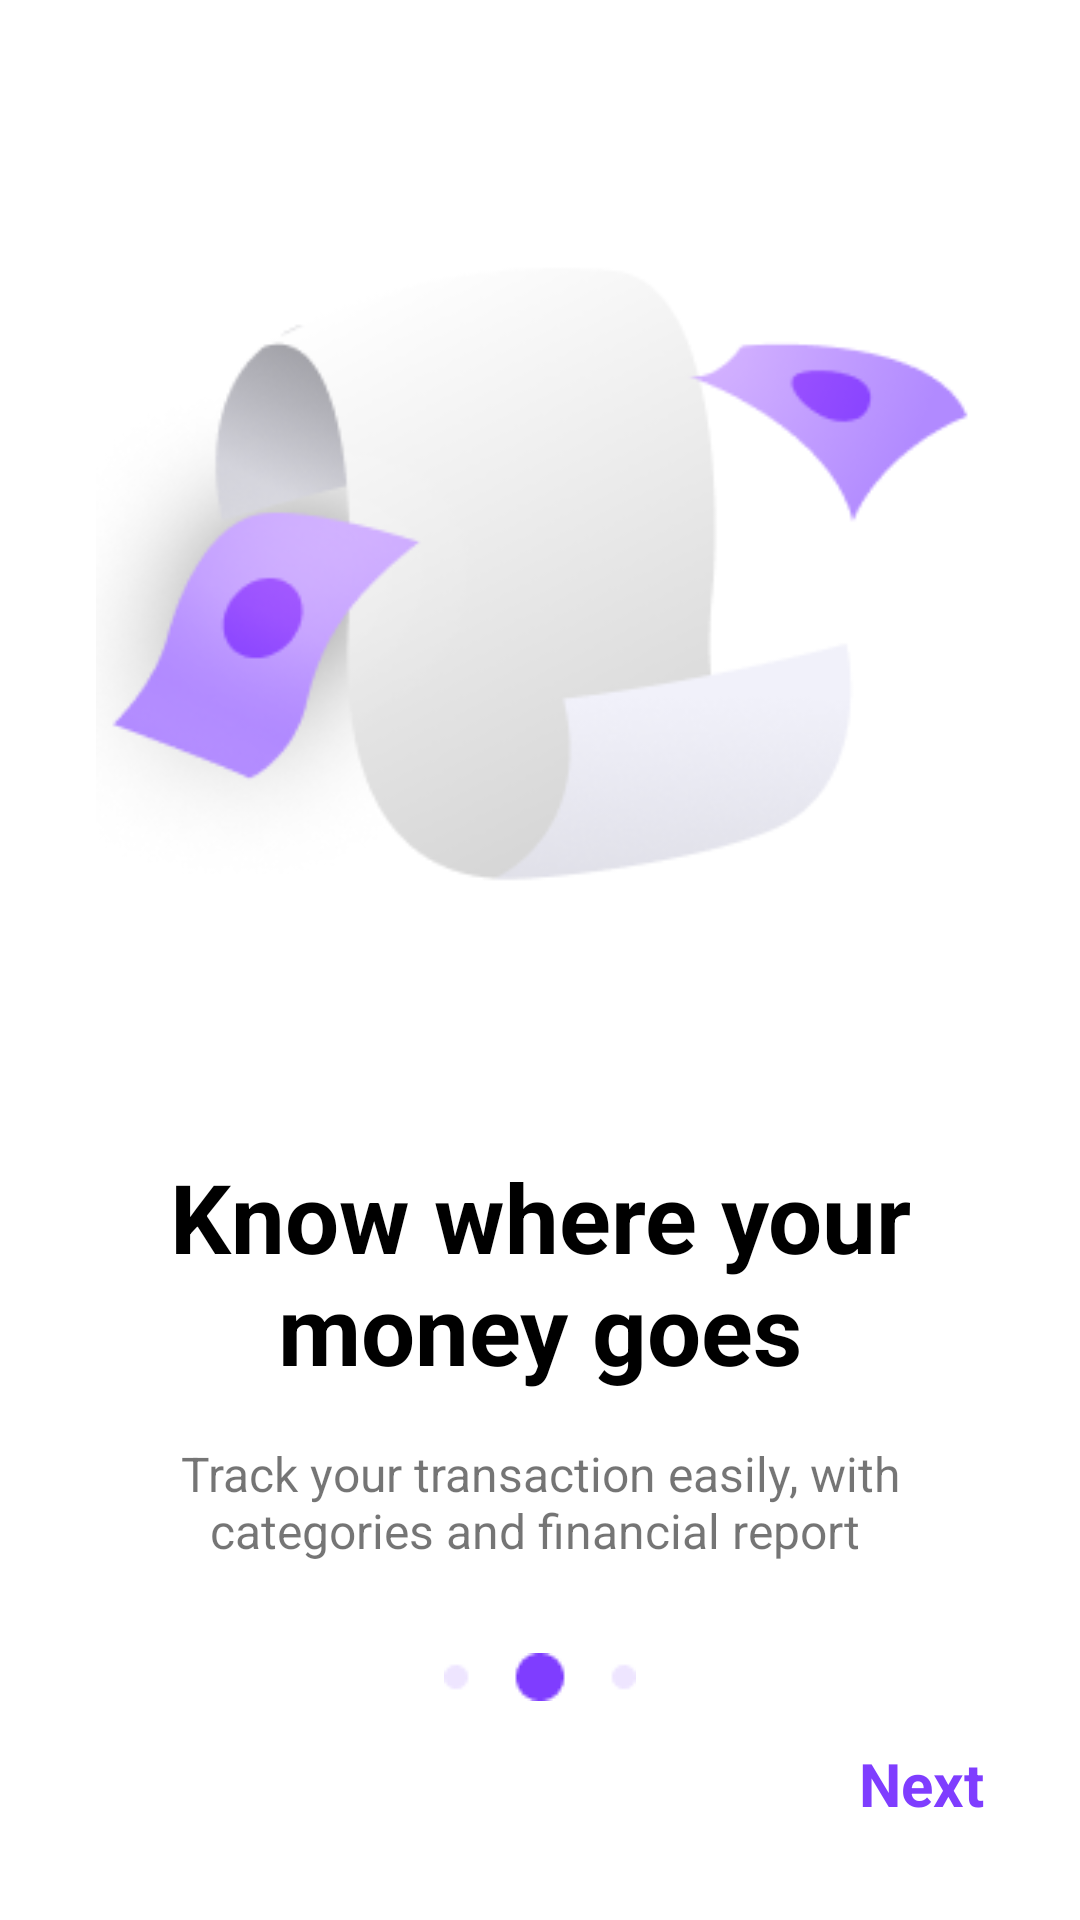

Where icons sit on this 1080*1920 app screen, as (left=x1, top=y1, right=x2, bottom=y2):
second indicator: (left=444, top=1653, right=636, bottom=1701)
